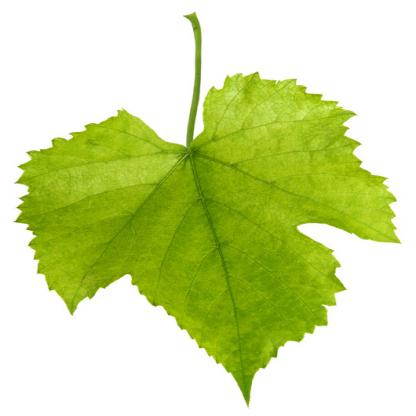grape leaf: (13, 73, 403, 415)
